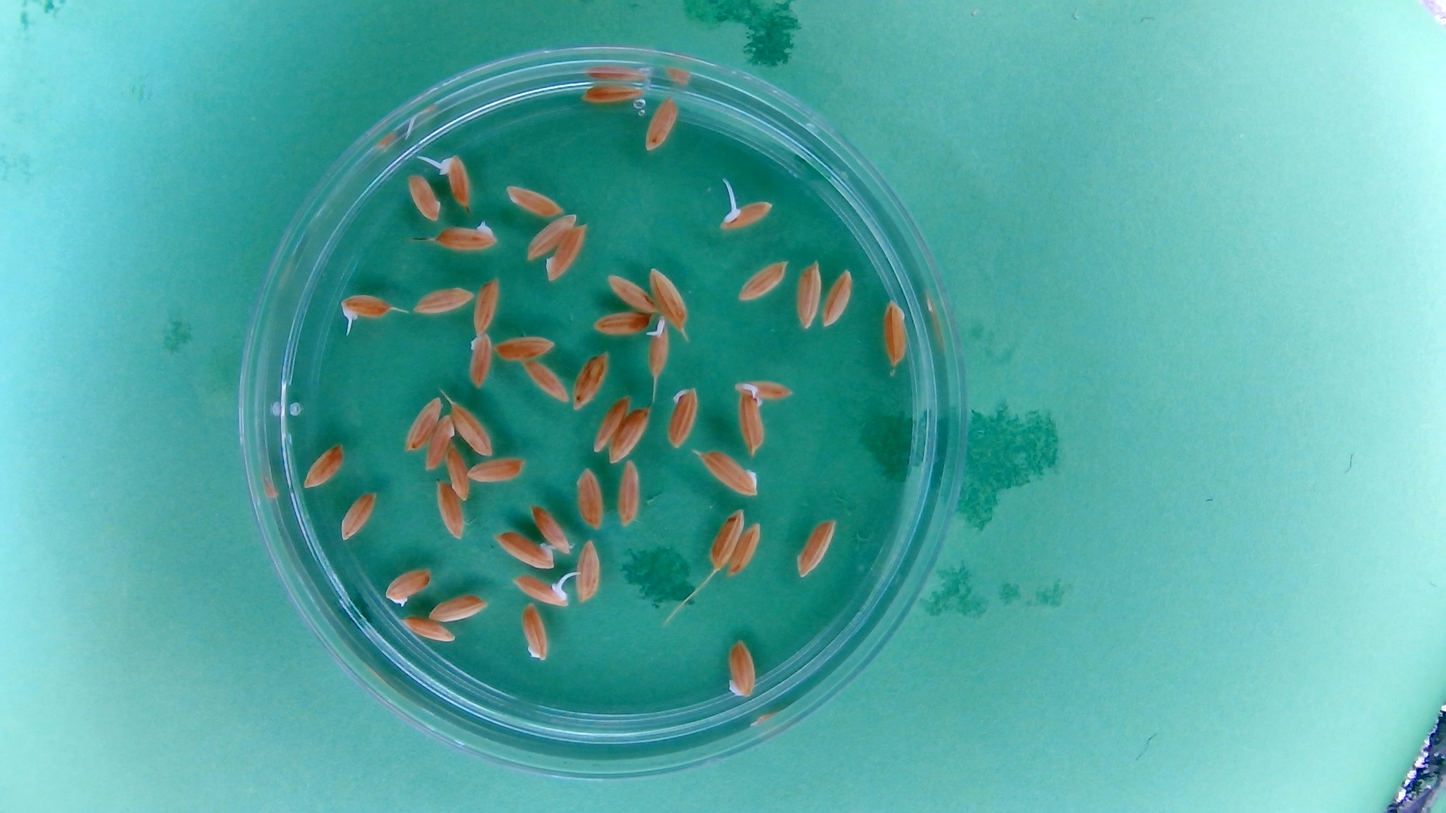no: (696, 448, 760, 498), (646, 264, 691, 334), (524, 212, 581, 263), (543, 221, 589, 284), (793, 515, 838, 579), (607, 403, 654, 464), (490, 528, 555, 571), (448, 399, 495, 458), (570, 349, 612, 413), (736, 257, 791, 305), (401, 392, 444, 453), (590, 393, 632, 455), (520, 355, 571, 406), (706, 507, 746, 572), (603, 270, 657, 314), (529, 502, 573, 556), (664, 385, 700, 451), (300, 440, 346, 491), (435, 219, 502, 254), (734, 386, 767, 457), (504, 181, 567, 218), (642, 93, 680, 154), (880, 296, 911, 370), (573, 465, 607, 532), (338, 488, 379, 543), (821, 266, 856, 330), (793, 259, 824, 331), (432, 478, 466, 542), (411, 284, 476, 317), (465, 454, 528, 488), (383, 564, 433, 606), (728, 519, 763, 579), (725, 636, 758, 699), (491, 333, 558, 364), (574, 537, 604, 605), (423, 411, 456, 472), (518, 601, 551, 662), (615, 459, 644, 528), (426, 592, 490, 623), (405, 172, 442, 224), (590, 308, 654, 338), (396, 613, 456, 644), (471, 276, 502, 336), (465, 330, 496, 390), (580, 81, 647, 106), (444, 443, 471, 501)
yes: (511, 571, 573, 608), (439, 153, 473, 209), (643, 315, 672, 378), (719, 199, 773, 231), (340, 293, 392, 325)
